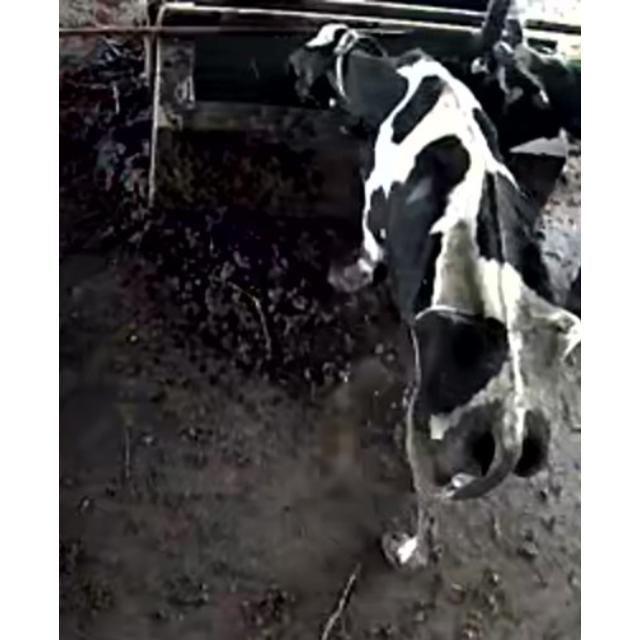drink: (278, 22, 472, 168)
